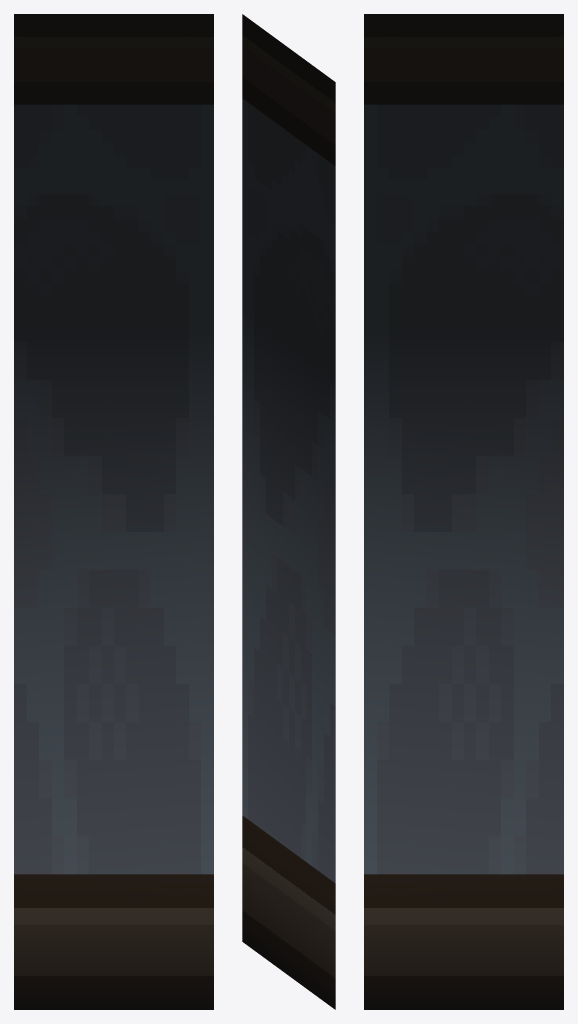
3 renders of one model, left to right at view 1: azimuth 90°, elevation 25°; view 2: azimuth 210°, elevation 25°; view 3: azimuth 270°, elevation 25°, orthographic. The views are drawn at different scales.
Bounding box in the file's own units: 0 × 5.5 × 1.
2 materials, 2 textured.
